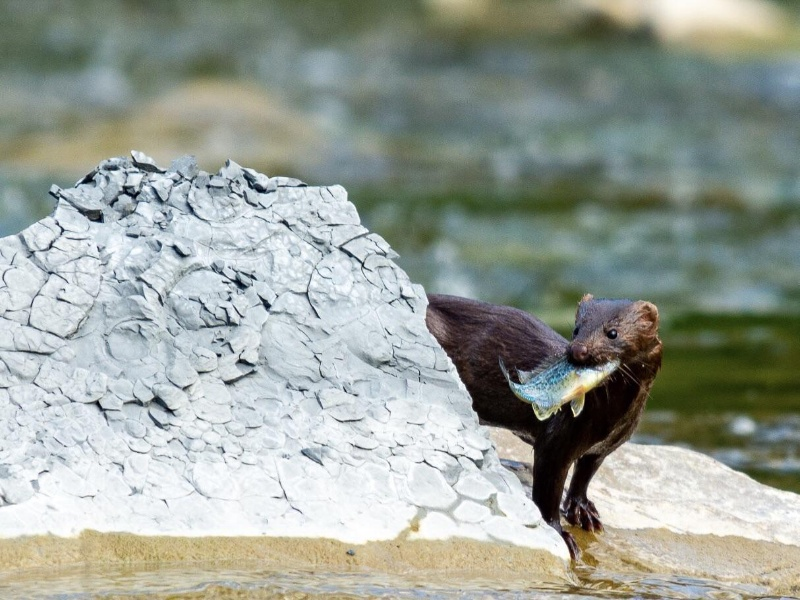minkish: (417, 282, 668, 564)
